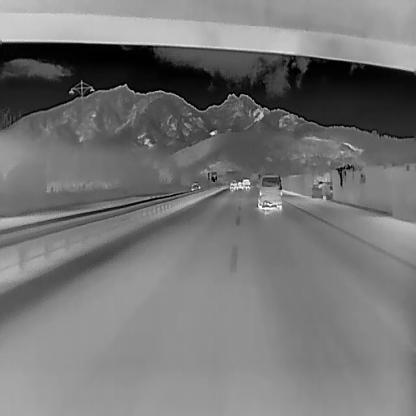car: (256, 173, 282, 211), (189, 180, 201, 191), (228, 178, 237, 190), (241, 178, 250, 189)
truck: (236, 181, 242, 189)
